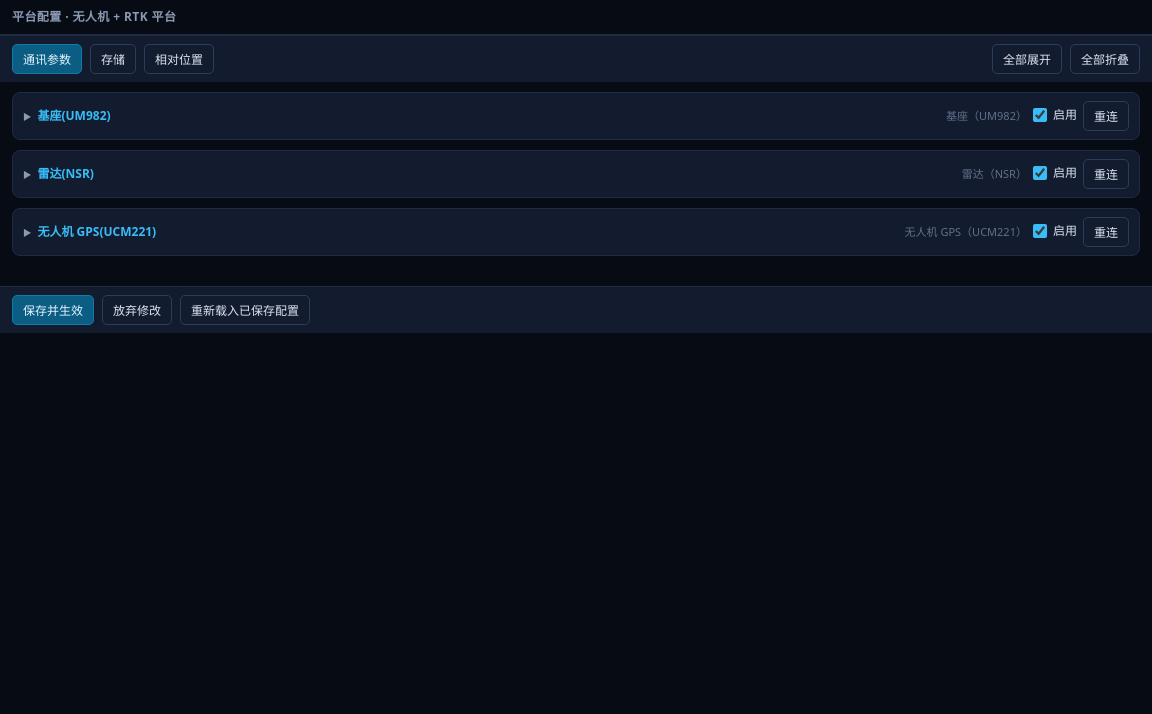
Test: ConfigPanel › 相对位置页签区块齐全，且原点固定为基座、界面上不再有原点选择项
Click the button "相对位置" at (179, 59), box [144,44,214,74]
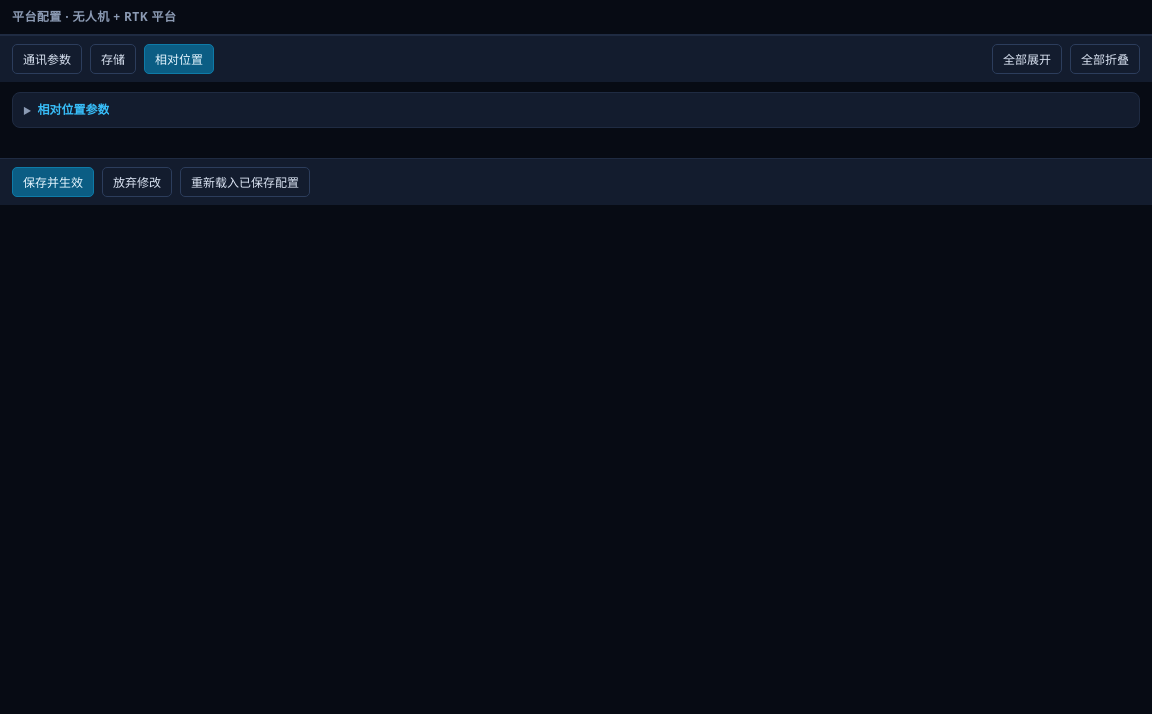
Click the button "全部展开" at (1027, 59), box [992,44,1062,74]
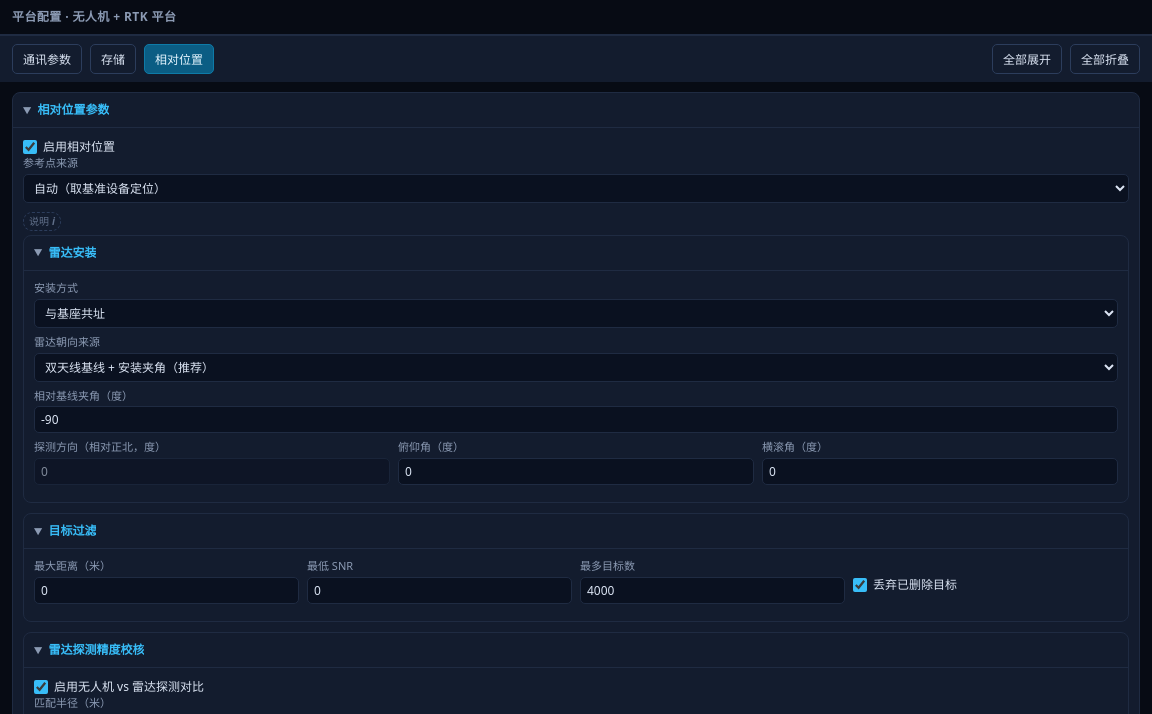
Expected: the text "相对位置参数" is shown, [38,101,110,118]
Expected: the text "雷达安装" is shown, [48,244,96,261]
Expected: the text "目标过滤" is shown, [48,522,96,539]
